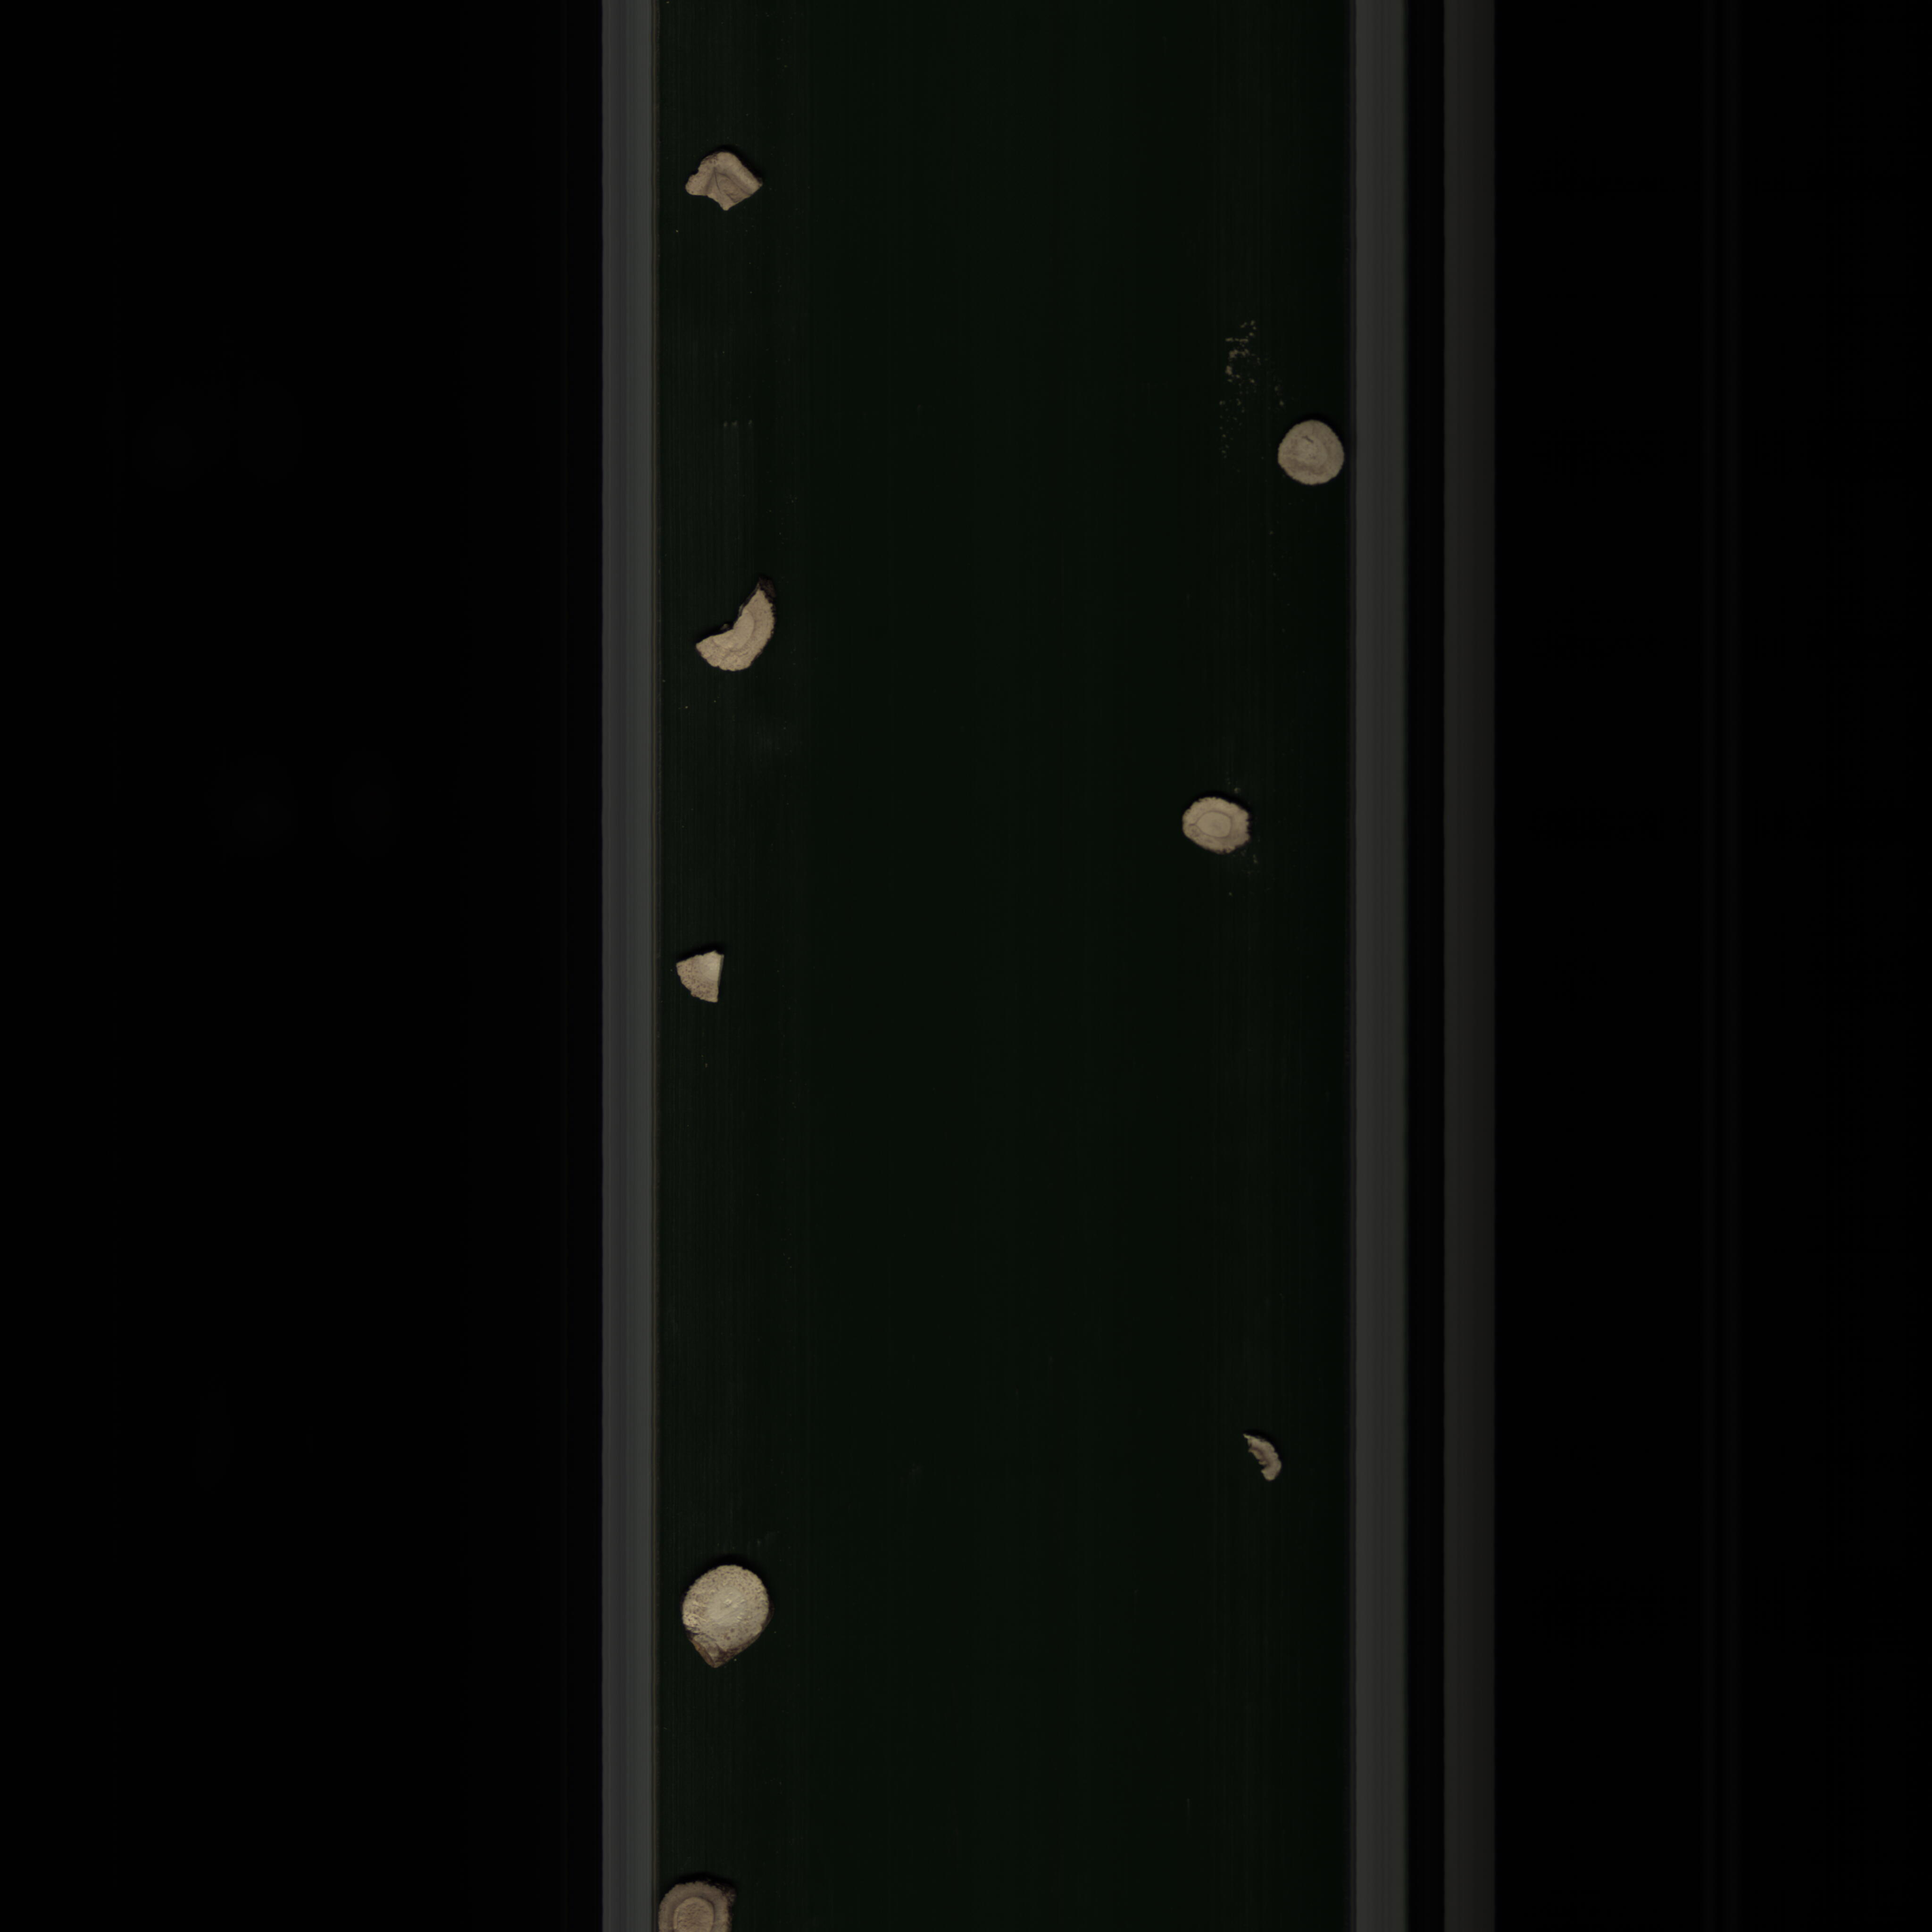debris: (692, 573, 784, 686), (678, 145, 780, 218), (1230, 1419, 1295, 1500), (671, 943, 732, 1010)
moldy: (656, 1877, 745, 1932)
